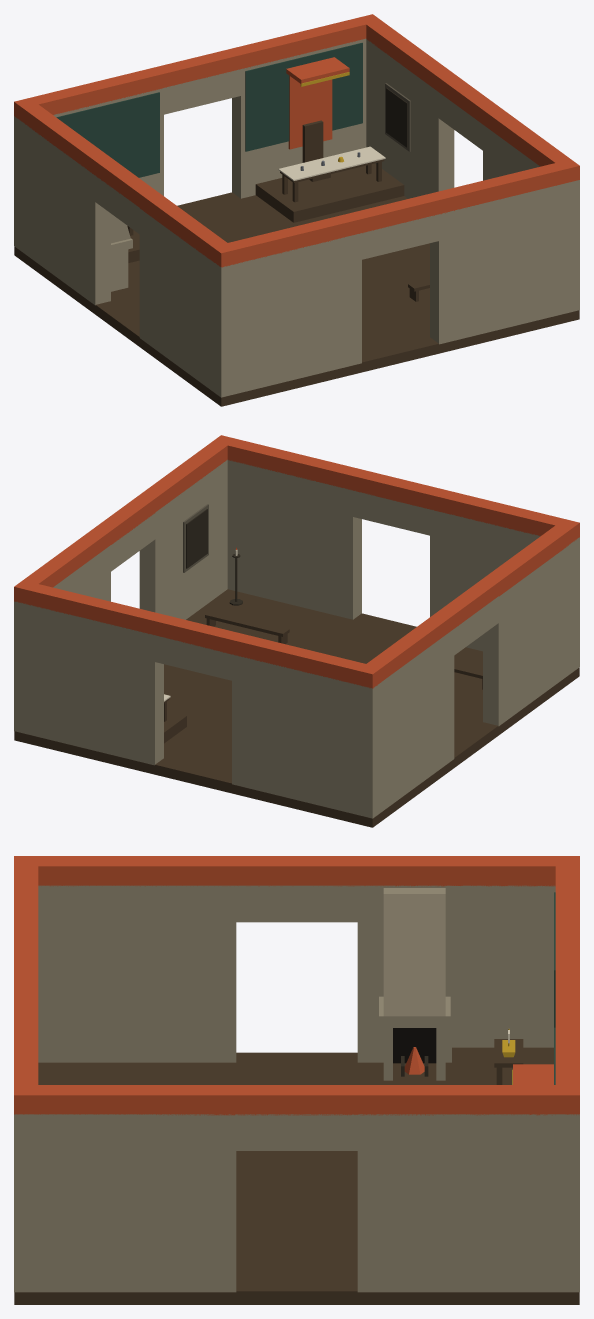
File: LateGreatHall.fbx
3 renders of one model, top to bottom at view 1: azimuth 30°, elevation 25°; view 2: azimuth 150°, elevation 25°; view 3: azimuth 270°, elevation 25°, orthographic. The views are drawn at different scales.
Visible parts, largest first — view 1: LateGreatHall; view 2: LateGreatHall; view 3: LateGreatHall.
Part boxes in pixels (x1,y1,x2,y2): LateGreatHall: [14, 14, 579, 406]; LateGreatHall: [14, 435, 579, 827]; LateGreatHall: [14, 856, 579, 1304].
Bounding box in the file's own units: 1202 × 492 × 1202.
Materials: 10 (10 with a texture image).
